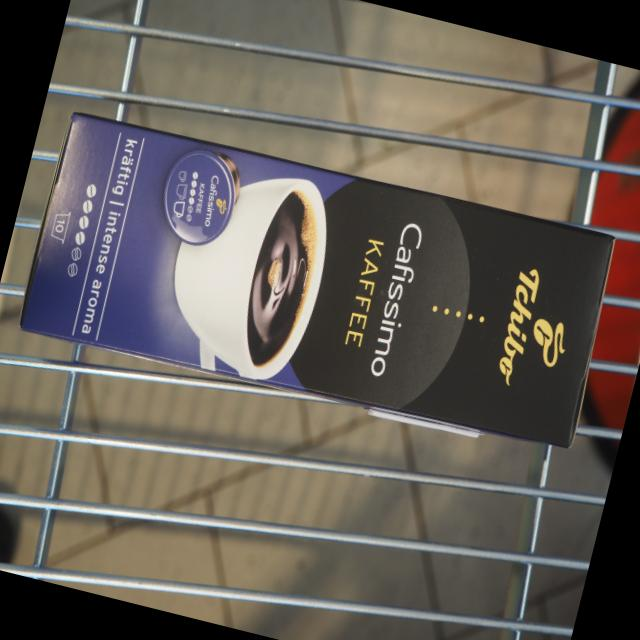Simo Kaffee Kraft: (13, 104, 622, 454)
